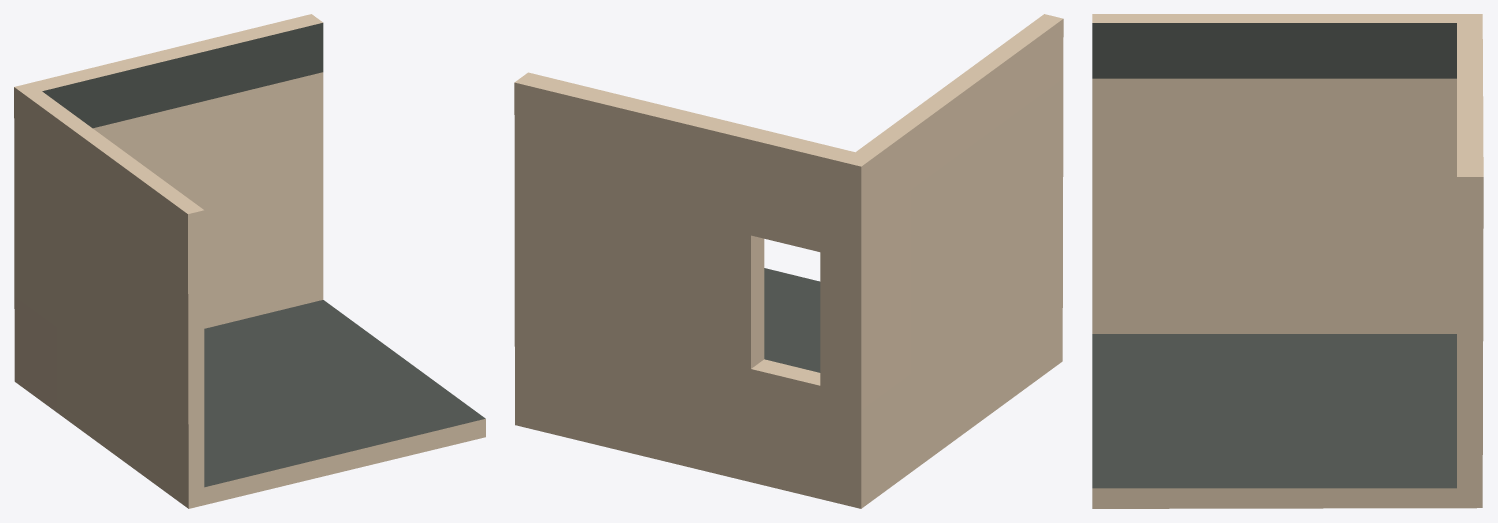
3 renders of one model, left to right at view 1: azimuth 30°, elevation 25°; view 2: azimuth 150°, elevation 25°; view 3: azimuth 270°, elevation 25°, orthographic. The views are drawn at different scales.
Parts seen in each view (by area): view 1: Temp; view 2: Temp; view 3: Temp.
Part boxes in pixels (<box>): Temp: <box>14,14,485,508</box>; Temp: <box>514,14,1063,508</box>; Temp: <box>1092,14,1483,508</box>.
Bounding box in the file's own units: 543 × 550 × 515.
